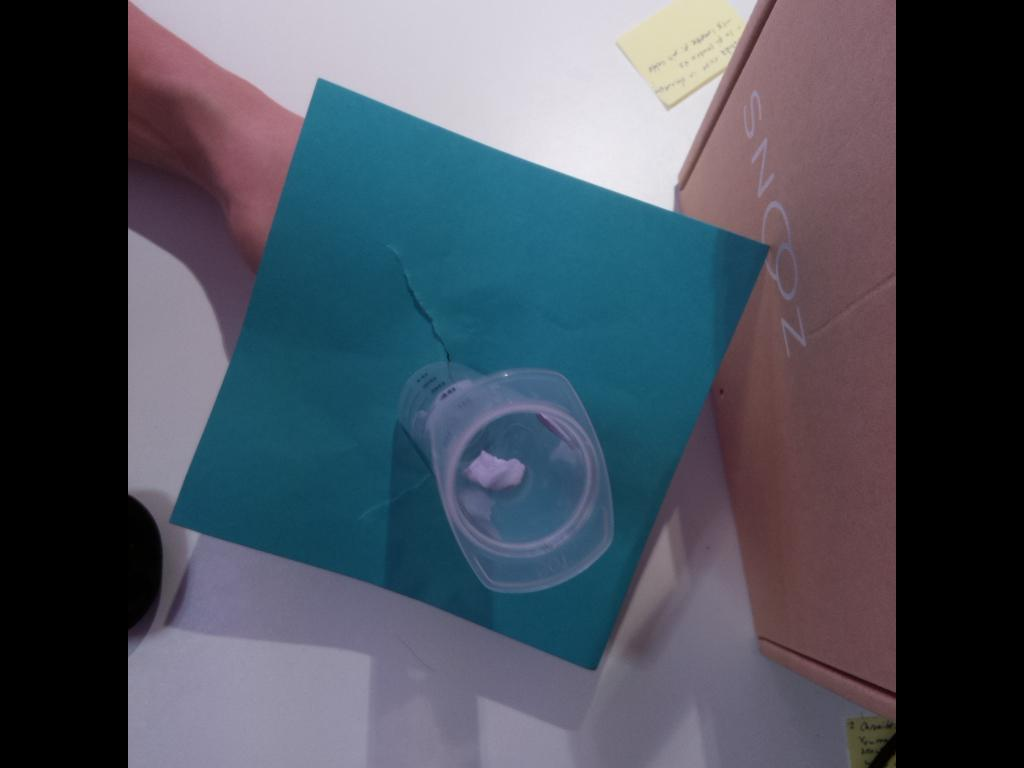dirty: (428, 368, 616, 594)
